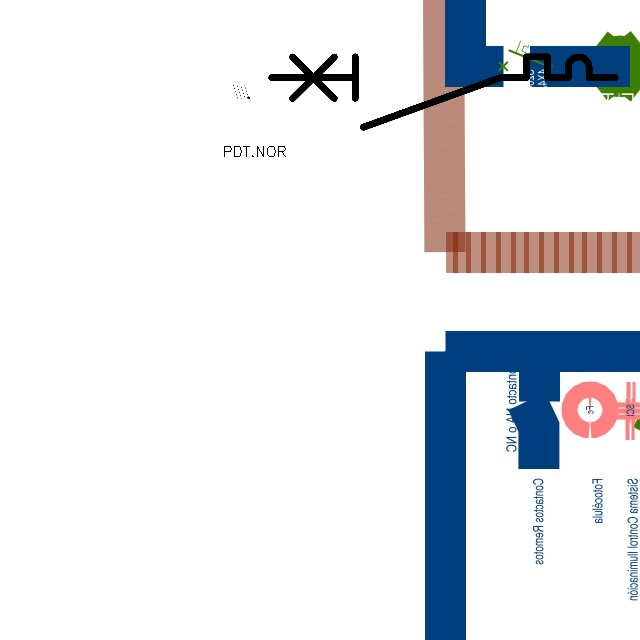interruptor_termomagnetico: (262, 48, 624, 136)
